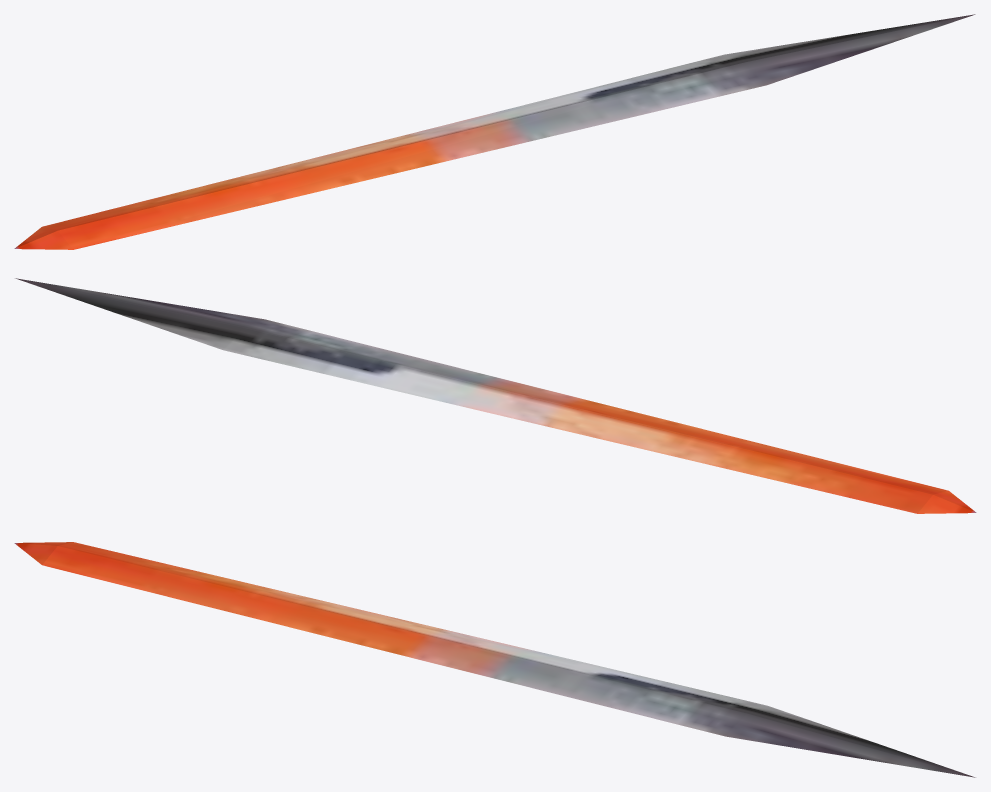
The model's file is NIEUFORMOWANE_STALOWE_OSTRZE.glb.
3 views of the same model, one above another, from view 1: azimuth 30°, elevation 25°; view 2: azimuth 150°, elevation 25°; view 3: azimuth 330°, elevation 25° (orthographic).
Visible parts, largest first — view 1: NIEUFORMOWANE_STALOWE_OSTRZE; view 2: NIEUFORMOWANE_STALOWE_OSTRZE; view 3: NIEUFORMOWANE_STALOWE_OSTRZE.
Part boxes in pixels (x1,y1,x2,y2): NIEUFORMOWANE_STALOWE_OSTRZE: (14, 14, 975, 249); NIEUFORMOWANE_STALOWE_OSTRZE: (15, 278, 976, 513); NIEUFORMOWANE_STALOWE_OSTRZE: (14, 542, 975, 777).
Bounding box in the file's own units: 1.05 × 0.016 × 0.08.
Materials: 1 (1 with a texture image).
